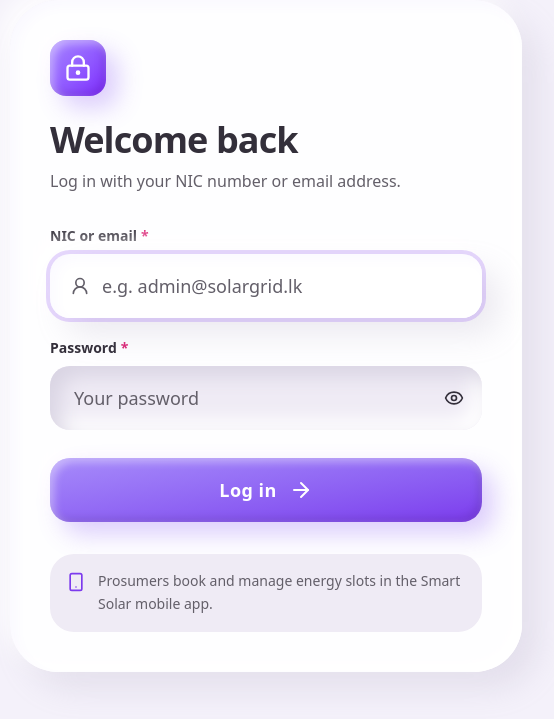
Test: LoginPage › refuses a prosumer account
In the field labelled "NIC or email": [266, 286] box left=50, top=254, right=482, bottom=318, type "kasun@example.com"
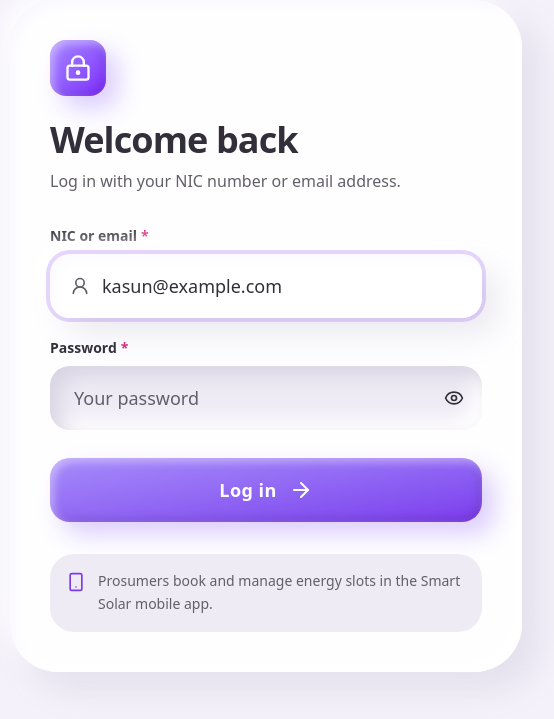
In the password field labelled "Password": [266, 398] box left=50, top=366, right=482, bottom=430, type "Prosumer@123"
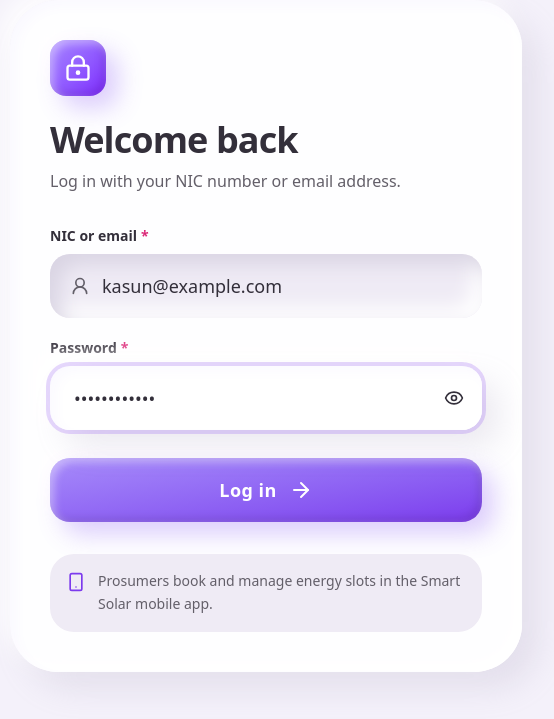
Click the button "Log in": [266, 490] box left=50, top=458, right=482, bottom=522
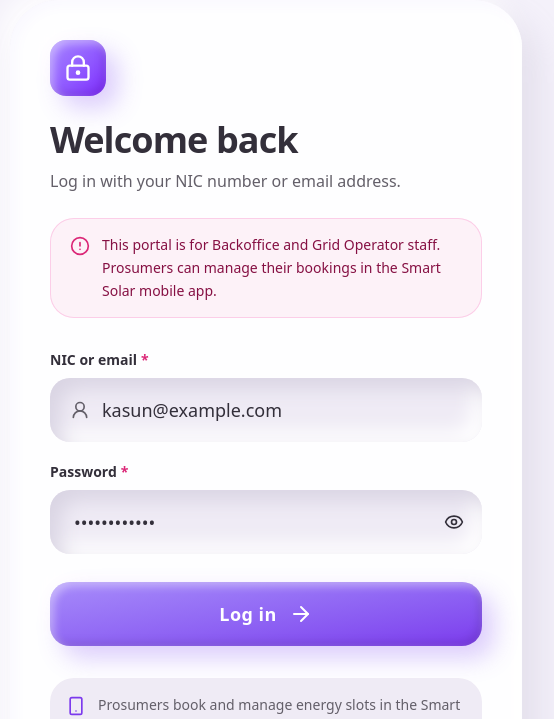
Expected: the button "Log in" is enabled, left=50, top=582, right=482, bottom=646
Expected: the message shows "This portal is for Backoffice and Grid Operator staff. Prosumers can manage their bookings in the Smart Solar mobile app.", left=102, top=235, right=441, bottom=300
